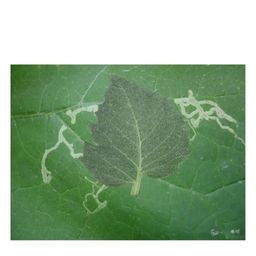liriomyza: (173, 88, 245, 143), (39, 124, 84, 185), (83, 177, 108, 214), (65, 103, 98, 124)
